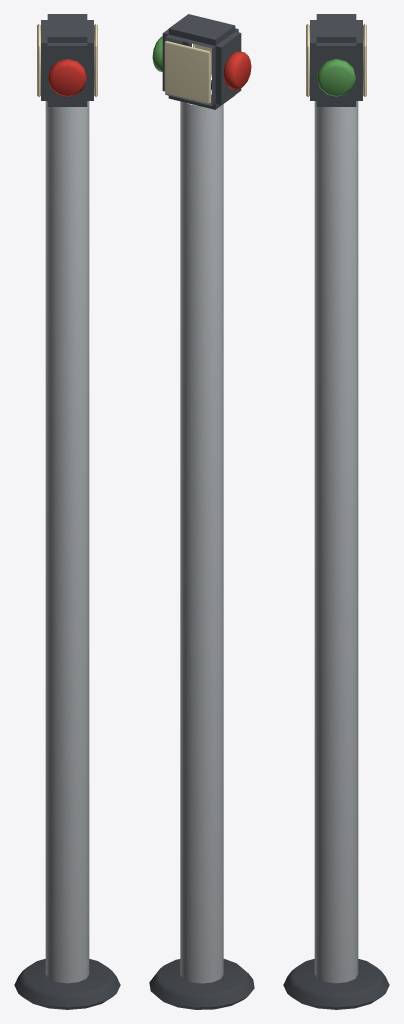
Rendered from LaneLight_Pole_01.glb.
3 views of the same model, side by side, from view 1: azimuth 90°, elevation 25°; view 2: azimuth 150°, elevation 25°; view 3: azimuth 270°, elevation 25° (orthographic).
Parts seen in each view (by area): view 1: SM_LaneLight_Pole_01; view 2: SM_LaneLight_Pole_01; view 3: SM_LaneLight_Pole_01.
Part boxes in pixels (left/top/right/bottom): SM_LaneLight_Pole_01: left=14, top=14, right=120, bottom=1009; SM_LaneLight_Pole_01: left=149, top=14, right=254, bottom=1009; SM_LaneLight_Pole_01: left=283, top=14, right=389, bottom=1009.
Bounding box in the file's own units: 0.22 × 2.2 × 0.22.
Materials: 1 (1 with a texture image).
